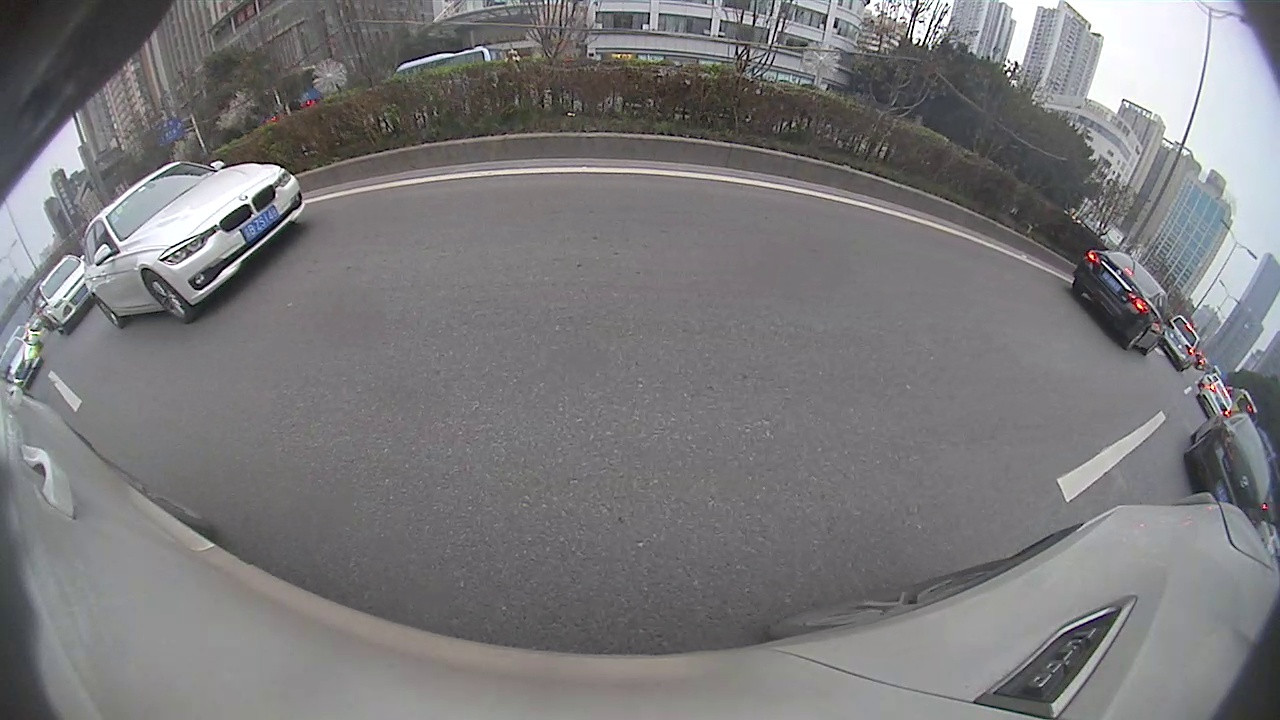bus: (434, 165, 484, 193)
car: (742, 112, 1082, 305), (1, 231, 242, 424), (1069, 241, 1277, 411), (253, 205, 349, 255), (710, 155, 746, 184), (618, 157, 649, 184), (653, 160, 675, 178)
front: (1087, 267, 1121, 307), (743, 184, 763, 222)
rear: (834, 205, 891, 284), (1209, 352, 1247, 397)
